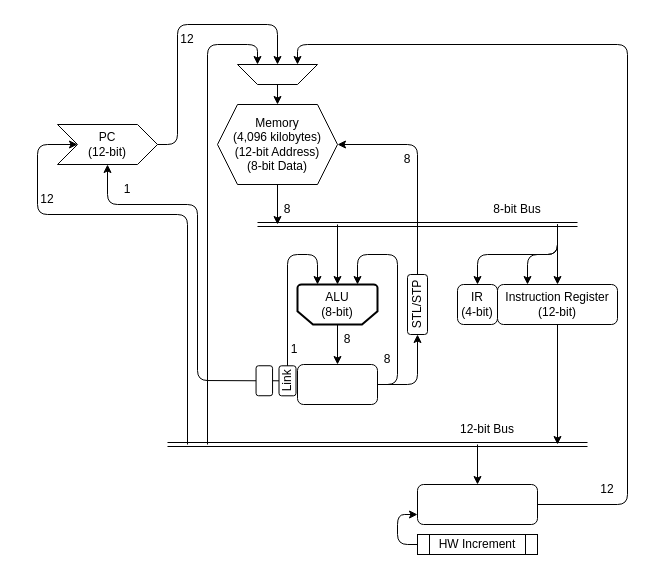
Some shapes in this 654 by 572 pixel diagram are drawn without their labels. The centre of each missing label's shape, as x and y in pixels:
"MUX" goes at point 277,74.
"RRA Register (8-bit)" goes at point 337,384.
"RRP Register (12-bit)" goes at point 477,504.
"Zero" goes at point 264,380.
